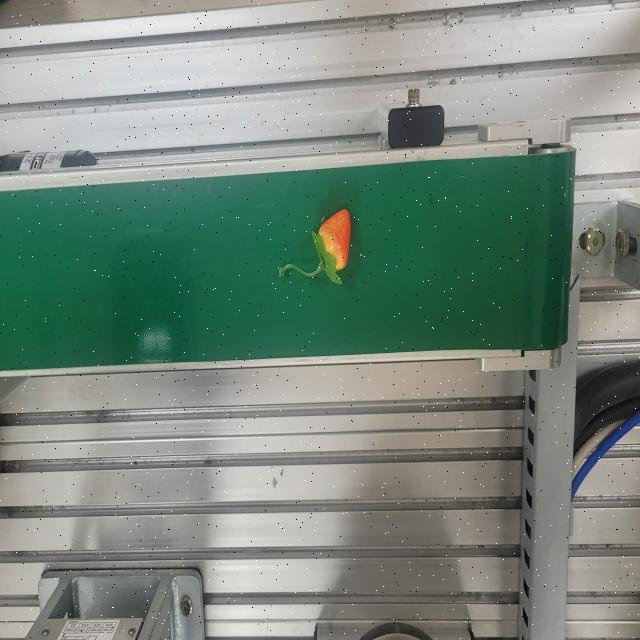Small Unripe Strawberry: (312, 203, 356, 290)
